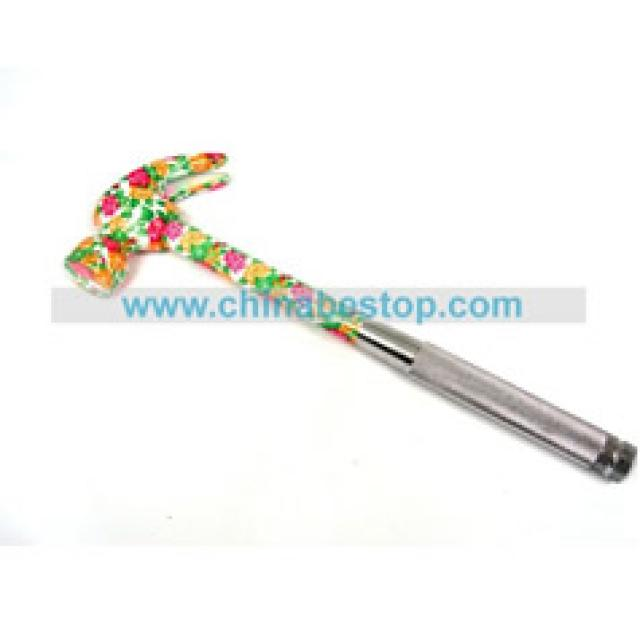hammer: (63, 97, 558, 485)
